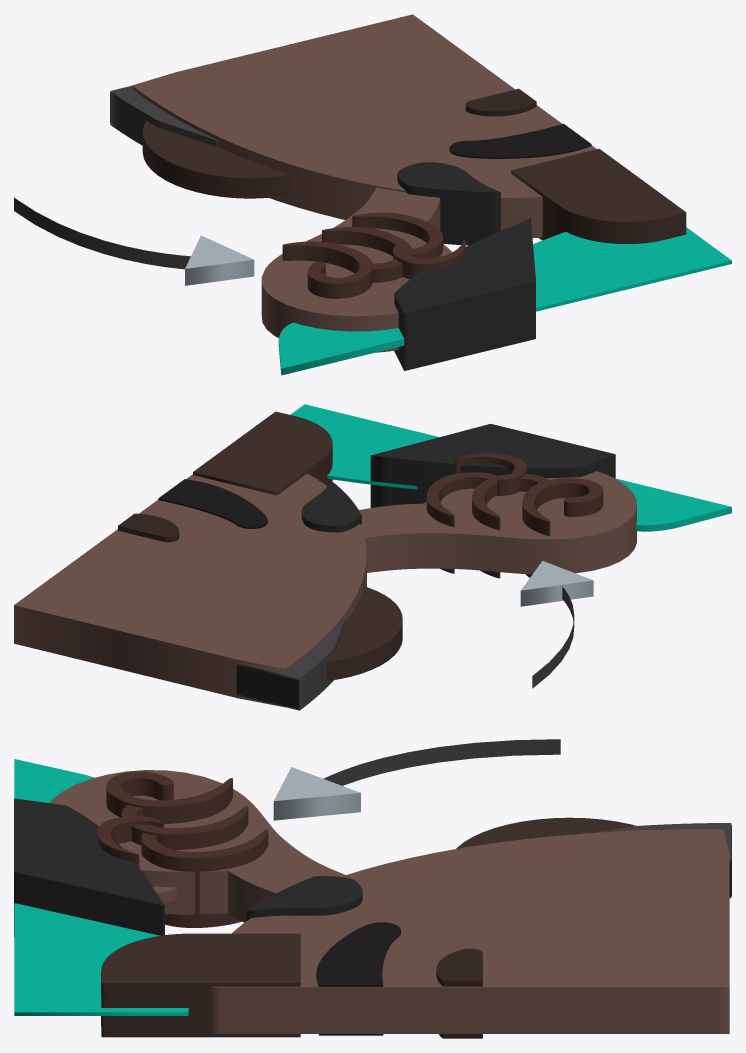
Rendered from emoji_u1f9cf_1f3ff_200d_2642.glb.
3 renders of one model, top to bottom at view 1: azimuth 30°, elevation 25°; view 2: azimuth 150°, elevation 25°; view 3: azimuth 270°, elevation 25°, orthographic. The views are drawn at different scales.
Visible parts, largest first — view 1: emoji_u1f9cf_1f3ff_200d_2642; view 2: emoji_u1f9cf_1f3ff_200d_2642; view 3: emoji_u1f9cf_1f3ff_200d_2642.
Boxes of the visible parts, <box> form: emoji_u1f9cf_1f3ff_200d_2642: <box>14,14,731,375</box>; emoji_u1f9cf_1f3ff_200d_2642: <box>14,404,731,710</box>; emoji_u1f9cf_1f3ff_200d_2642: <box>14,739,731,1038</box>.
Bounding box in the file's own units: 0.0296 × 0.0042 × 0.0336.
